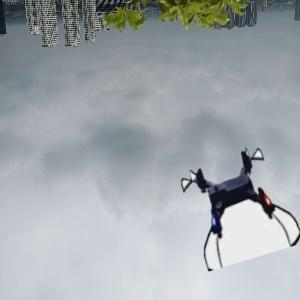drone: (183, 151, 294, 262)
